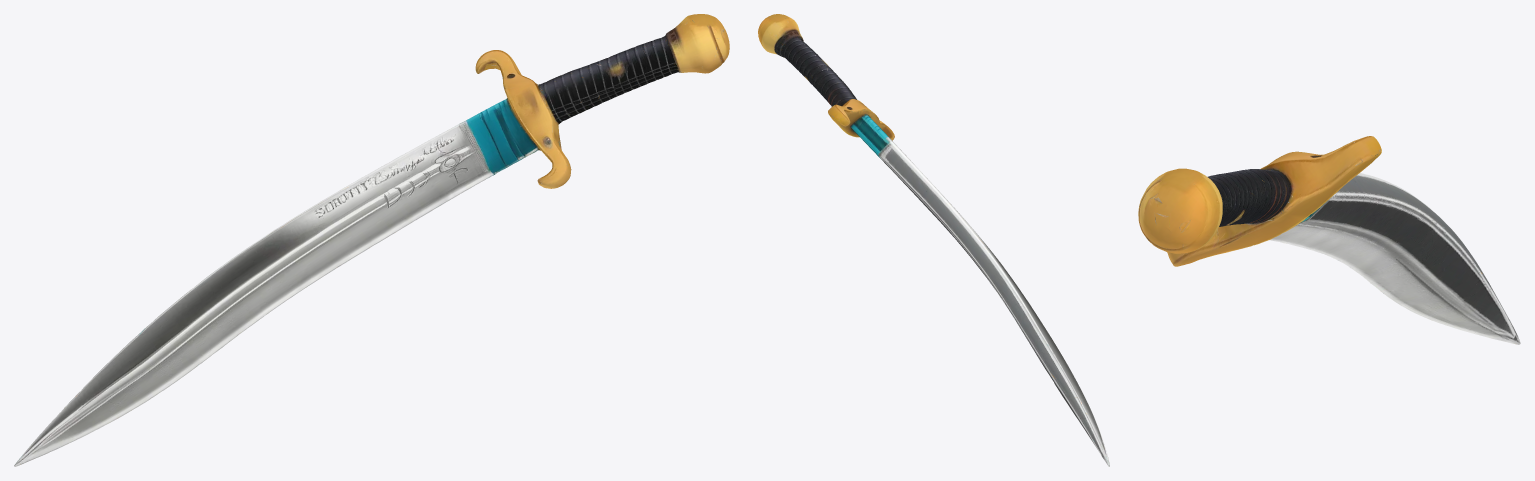
The model's file is cutlass.glb.
3 views of the same model, side by side, from view 1: azimuth 30°, elevation 25°; view 2: azimuth 150°, elevation 25°; view 3: azimuth 270°, elevation 25° (orthographic). The views are drawn at different scales.
Parts seen in each view (by area): view 1: Mesh1.0; view 2: Mesh1.0; view 3: Mesh1.0.
Part boxes in pixels (box(x1,y1,x2,y2)): Mesh1.0: box(14, 14, 729, 466); Mesh1.0: box(758, 14, 1109, 466); Mesh1.0: box(1138, 136, 1520, 344).
Bounding box in the file's own units: 1.9 × 1.21 × 0.7253.
1 material, 1 textured.
